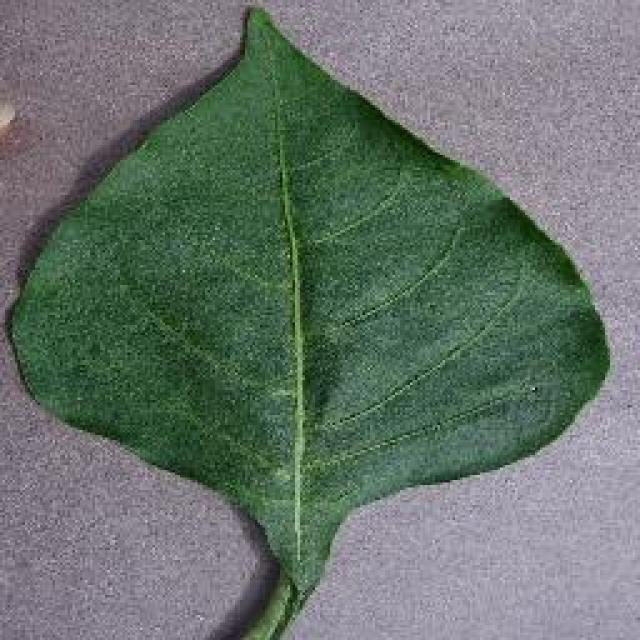Chilli_Healthy: (5, 2, 610, 638)
